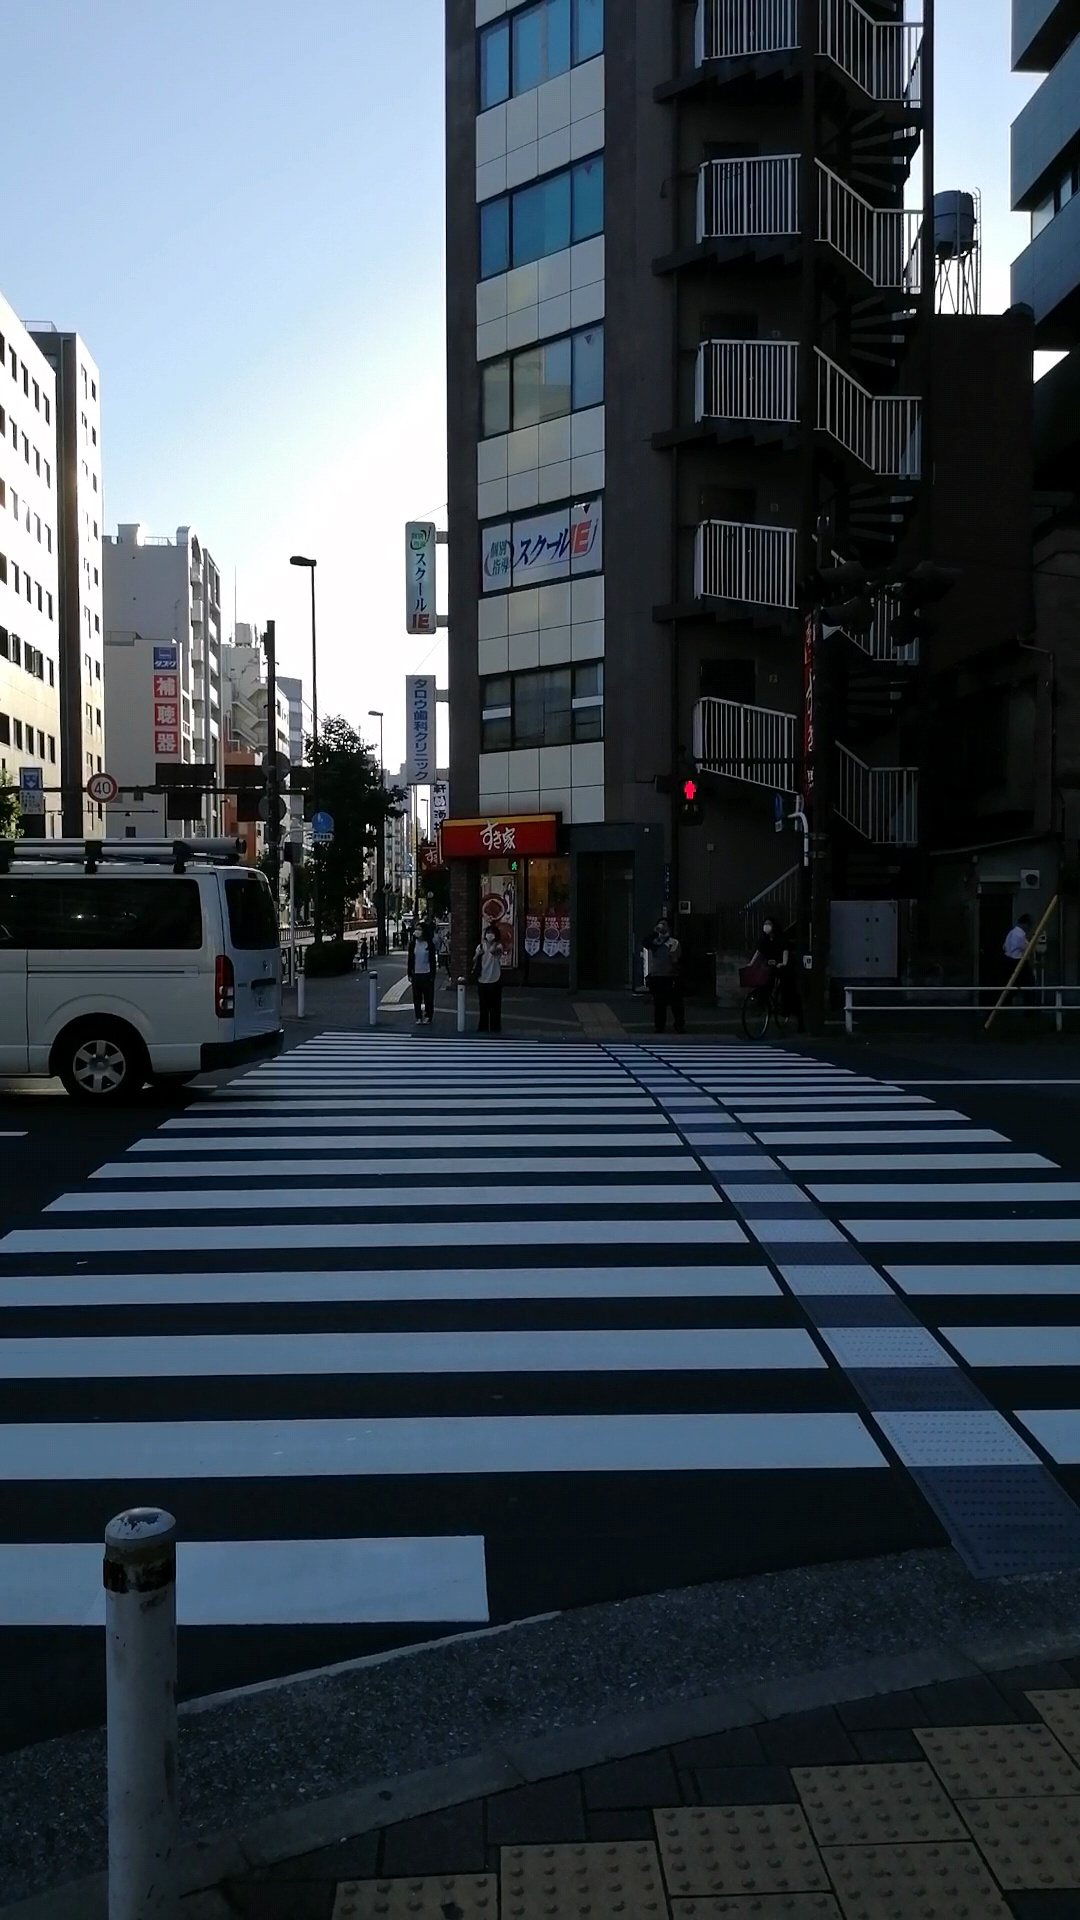red: (676, 777, 703, 835)
